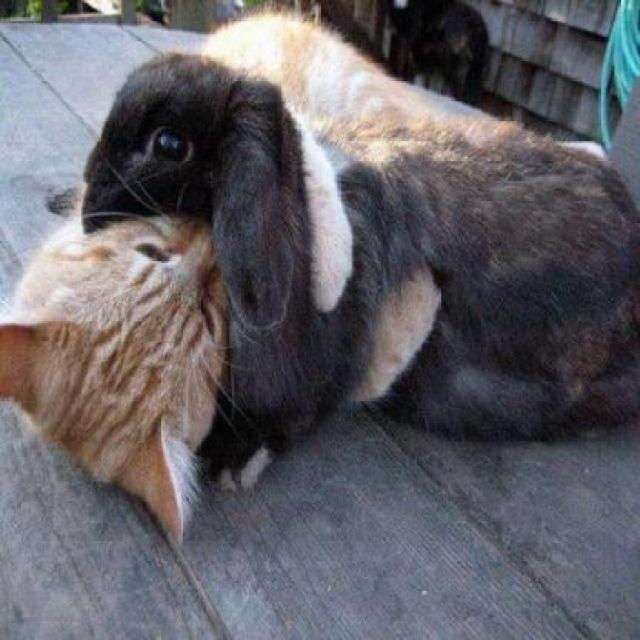cat: (0, 204, 238, 530)
